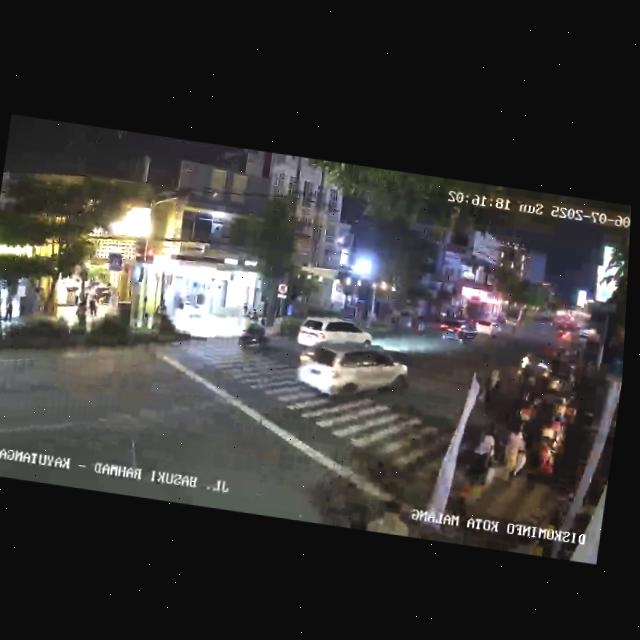car: (290, 332, 412, 415), (294, 311, 374, 355), (435, 315, 480, 346), (470, 317, 501, 337)
motorcycle: (236, 317, 270, 354)
person: (463, 422, 497, 496), (498, 419, 530, 487), (74, 292, 88, 327), (1, 296, 14, 327), (87, 291, 100, 321)
